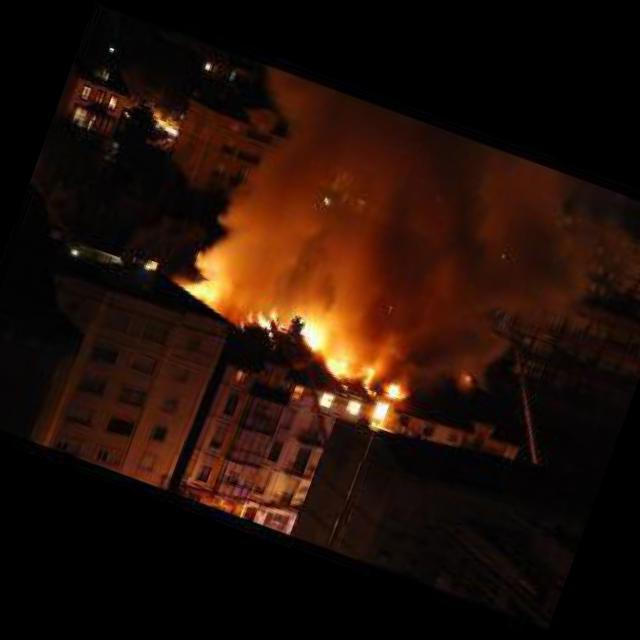fire: (237, 292, 391, 389), (384, 376, 412, 402)
smoke: (200, 72, 608, 414)
